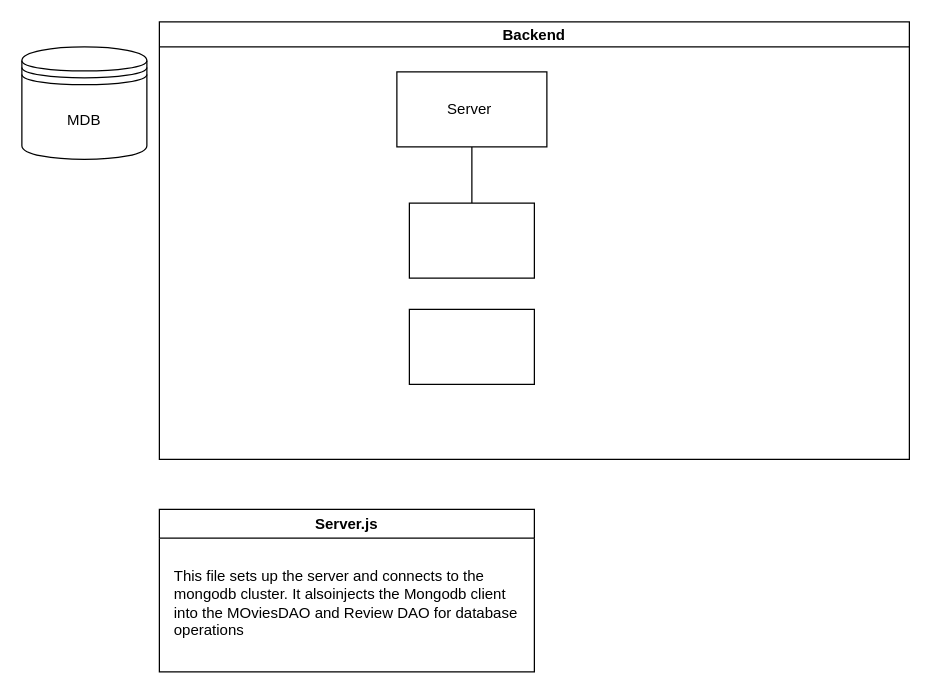
This 931x694 diagram has some shape labels left out. Each missing label, with the centre of its shape:
"app" belongs at pixel 471 240.
"routes" belongs at pixel 471 346.
